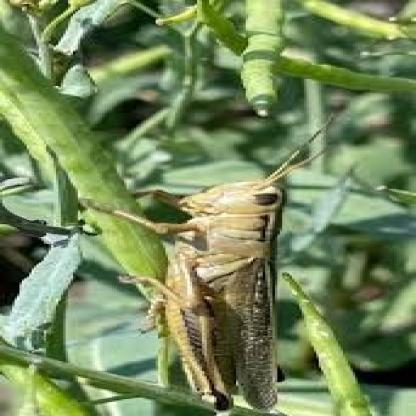grasshopper: (60, 124, 344, 416)
